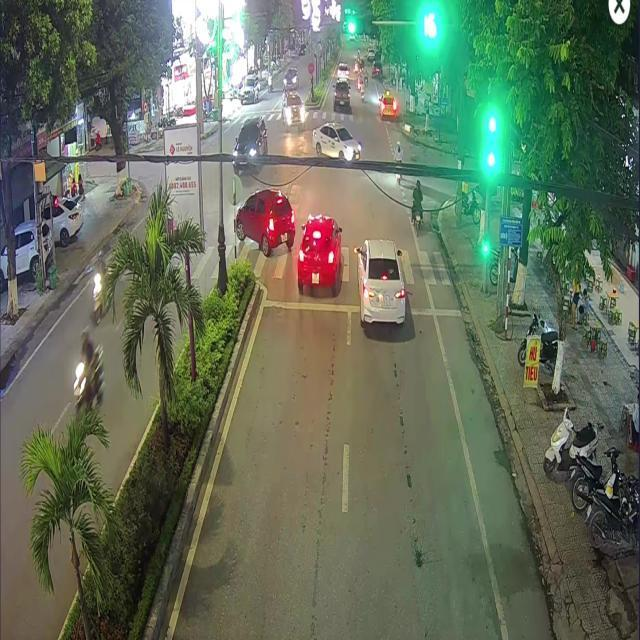car: (354, 238, 406, 327), (234, 188, 295, 256), (296, 215, 341, 295), (332, 79, 349, 112), (378, 94, 397, 117)
green_light: (346, 15, 373, 36), (486, 132, 495, 168), (483, 233, 487, 251)
motobike: (410, 206, 421, 233)
stop_line: (263, 299, 460, 315)
